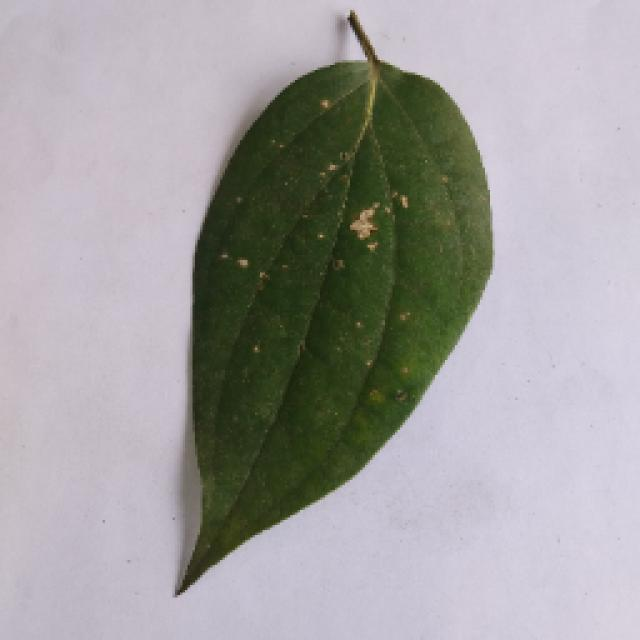pollu-disease: (158, 20, 508, 595)
